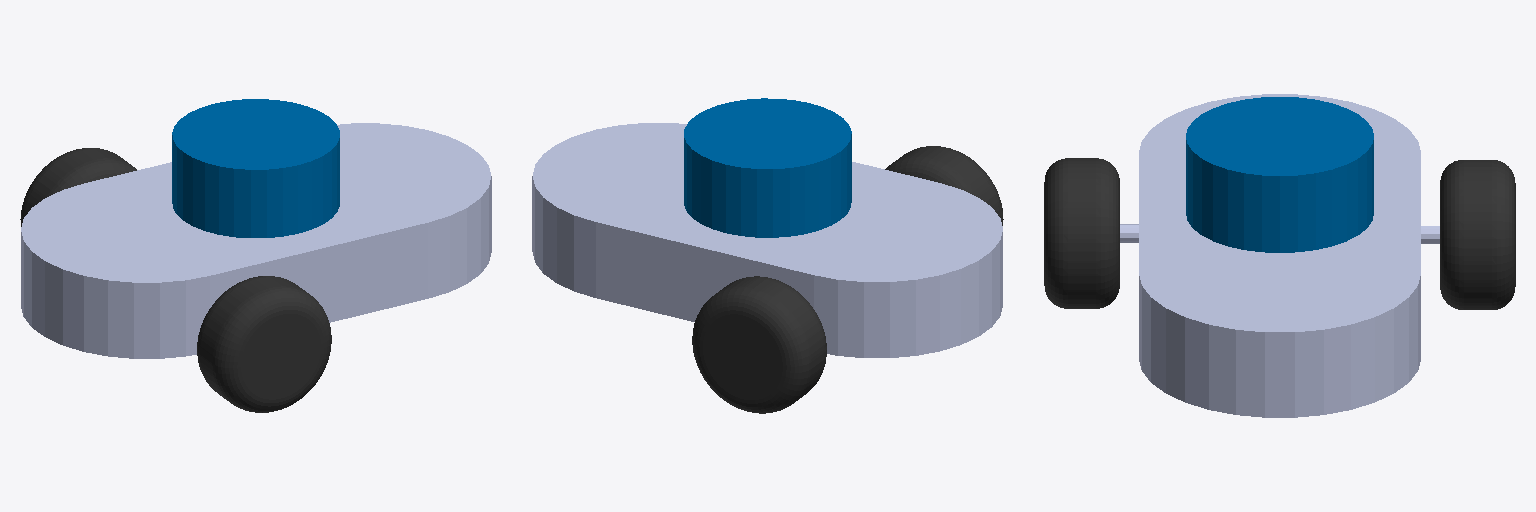
robot.urdf — 2_wheeled_robot:
<?xml version="1.0" encoding="utf-8"?>
<robot name="2_wheeled_robot">

<!-- Chassis-->

  <link name="base_link">
    <inertial>
      <origin xyz="-0.000107321492185064 2.22044604925031E-16 -0.0250251645361782" rpy="0 0 0" />
      <mass value="2.01249992463912" />
      <inertia ixx="0.00380129968803899" ixy="-1.1019976979327E-19" ixz="-2.77996434429272E-06"
               iyy="0.0129717573977099" iyz="1.36171170626258E-07" izz="0.0159347976944742" />
    </inertial>
    <visual>
      <origin xyz="0 0 0" rpy="0 0 0" />
      <geometry>
        <mesh filename="package://2_wheeled_robot/meshes/base_link.STL" />
      </geometry>
      <material name="">
        <color rgba="0.792156862745098 0.819607843137255 0.933333333333333 1" />
      </material>
    </visual>
    <collision>
      <origin xyz="0 0 0" rpy="0 0 0" />
      <geometry>
        <mesh filename="package://2_wheeled_robot/meshes/base_link.STL" />
      </geometry>
    </collision>
  </link>

<!-- Left Wheel -->

  <link name="left_Link">
    <inertial>
      <origin xyz="-1.1102E-16 -0.01992 0" rpy="0 0 0" />
      <mass value="0.18421" />
      <inertia ixx="9.1355E-05" ixy="8.7932E-21" ixz="-3.5465E-39"
               iyy="0.00013888" iyz="-1.2533E-23" izz="9.1355E-05" />
    </inertial>
    <visual>
      <origin xyz="0 0 0" rpy="0 0 0" />
      <geometry>
        <mesh filename="package://2_wheeled_robot/meshes/left_Link.STL" />
      </geometry>
      <material name="">
        <color rgba="0.25098 0.25098 0.25098 1" />
      </material>
    </visual>
    <collision>
      <origin xyz="0 0 0" rpy="0 0 0" />
      <geometry>
        <mesh filename="package://2_wheeled_robot/meshes/left_Link.STL" />
      </geometry>
    </collision>
  </link>

  <joint name="left_joint" type="continuous">
    <origin xyz="-0.055 0.125 -0.038293" rpy="0 0 0" />
    <parent link="base_link" />
    <child link="left_Link" />
    <axis xyz="0 -1 0" />
  </joint>

<!-- Right Wheel -->

  <link name="right_Link">
    <inertial>
      <origin xyz="0 0.01992 1.1102E-16" rpy="0 0 0" />
      <mass value="0.18421" />
      <inertia ixx="9.1355E-05" ixy="-4.1346E-21" ixz="3.9164E-21"
               iyy="0.00013888" iyz="3.1612E-21" izz="9.1355E-05" />
    </inertial>
    <visual>
      <origin xyz="0 0 0" rpy="0 0 0" />
      <geometry>
        <mesh filename="package://2_wheeled_robot/meshes/right_Link.STL" />
      </geometry>
      <material name="">
        <color rgba="0.25098 0.25098 0.25098 1" />
      </material>
    </visual>
    <collision>
      <origin xyz="0 0 0" rpy="0 0 0" />
      <geometry>
        <mesh filename="package://2_wheeled_robot/meshes/right_Link.STL" />
      </geometry>
    </collision>
  </link>

  <joint name="right_joint" type="continuous">
    <origin xyz="-0.055 -0.125 -0.0375" rpy="0 0 0" />
    <parent link="base_link" />
    <child link="right_Link" />
    <axis xyz="0 1 0" />
  </joint>

<!-- Caster Wheel -->

  <link name="caster_wheel_Link">
    <inertial>
      <origin xyz="-1.1102E-16 0.018174 -4.4409E-16" rpy="0 0 0" />
      <mass value="0.0053846" />
      <inertia ixx="2.798E-07" ixy="7.4942E-26" ixz="-7.3509E-23"
               iyy="3.6648E-07" iyz="8.5385E-25" izz="2.798E-07" />
    </inertial>
    <visual>
      <origin xyz="0 0 0" rpy="0 0 0" />
      <geometry>
        <mesh filename="package://2_wheeled_robot/meshes/caster_wheel_Link.STL" />
      </geometry>
      <material name="">
        <color rgba="0.79216 0.81961 0.93333 1" />
      </material>
    </visual>
    <collision>
      <origin xyz="0 0 0" rpy="0 0 0" />
      <geometry>
        <mesh filename="package://2_wheeled_robot/meshes/caster_wheel_Link.STL" />
      </geometry>
    </collision>
  </link>

  <joint name="caster_wheel_joint" type="fixed">
    <origin xyz="0.079893 -0.0051974 -0.0783" rpy="1.5708 0 0" />
    <parent link="base_link" />
    <child link="caster_wheel_Link" />
    <axis xyz="0 1 0" />
  </joint>

<!-- Lidar -->

  <link name="lidar_link">
    <inertial>
      <mass value="0.1"/>
      <origin xyz="0 0 0"/>
      <inertia ixx="0.001" ixy="0.0" ixz="0.0" iyy="0.001" iyz="0.0" izz="0.001"/>
    </inertial>
    <visual>
      <geometry>
        <cylinder length="0.05" radius="0.05"/>
      </geometry>
    </visual>
    <collision>
      <geometry>
        <cylinder length="0.05" radius="0.05"/>
      </geometry>
    </collision>
  </link>

  <joint name="lidar_joint" type="fixed">
    <parent link="base_link"/>
    <child link="lidar_link"/>
    <origin xyz="0 0 0.02" rpy="0 0 0"/>
  </joint>


<!-- Lidar Gazebo Plugin -->
  <gazebo reference="lidar_link">
    <sensor type="ray" name="lidar">
      <pose>0 0 0.02 0 0 0</pose>
      <visualize>true</visualize>
      <update_rate>40</update_rate>
      <ray>
        <scan>
          <horizontal>
            <samples>360</samples>
            <resolution>1</resolution>
            <min_angle>-3.14159</min_angle> 
            <max_angle>3.14159</max_angle>
          </horizontal>
        </scan>
        <range>
          <min>0.10</min>
          <max>12.0</max>
          <resolution>0.03</resolution>
        </range>
      </ray>
      <plugin name="lidar_controller" filename="libgazebo_ros_laser.so">
        <topicName>/scan</topicName>
        <frameName>lidar_link</frameName>
      </plugin>
    </sensor>
  </gazebo>

<!-- Differential Drive Gazebo Plugin -->
  
  <gazebo>
    <plugin name="differential_drive_controller" filename="libgazebo_ros_diff_drive.so">
      <updateRate>50</updateRate>
      <leftJoint>left_joint</leftJoint>
      <rightJoint>right_joint</rightJoint>
      <wheelSeparation>0.5380</wheelSeparation>
      <wheelDiameter>0.2410</wheelDiameter>
      <wheelAcceleration>1.0</wheelAcceleration>
      <wheelTorque>20</wheelTorque>
      <commandTopic>cmd_vel</commandTopic>
      <odometryTopic>odom</odometryTopic>
      <odometryFrame>odom</odometryFrame>
      <robotBaseFrame>base_link</robotBaseFrame>
      <odometrySource>1</odometrySource>
      <publishWheelTF>true</publishWheelTF>
      <publishOdom>true</publishOdom>
      <publishWheelJointState>true</publishWheelJointState>
      <legacyMode>false</legacyMode>
    </plugin>
  </gazebo>



</robot>

--- What the picture shows (computed from the rendered views, not written in the file) ---
3 views of the same robot in one strip: view 1: azimuth 30°, elevation 25°; view 2: azimuth 150°, elevation 25°; view 3: azimuth 270°, elevation 25° (orthographic).
Robot: 2_wheeled_robot — 5 links, 4 joints (2 continuous, 2 fixed); root link base_link; default pose: all joints at 0.
Links seen in each view (by area): view 1: base_link, lidar_link, right_Link, left_Link; view 2: base_link, lidar_link, left_Link, right_Link; view 3: base_link, lidar_link, right_Link, left_Link.
Link boxes in pixels (box(x1,y1,x2,y2)): base_link: box(21, 123, 491, 358); lidar_link: box(172, 99, 339, 237); right_Link: box(197, 276, 331, 412); left_Link: box(20, 148, 136, 226); base_link: box(532, 123, 1002, 357); lidar_link: box(684, 98, 851, 237); left_Link: box(692, 276, 826, 413); right_Link: box(885, 146, 1003, 225); base_link: box(1120, 94, 1439, 417); lidar_link: box(1186, 97, 1373, 252); right_Link: box(1044, 158, 1119, 308); left_Link: box(1440, 160, 1515, 309).
Bounding box of the posed robot: 0.2992 × 0.25 × 0.1233 m (x, y, z).
4 mesh visuals loaded from 4 distinct referenced files (4 binary STL).
